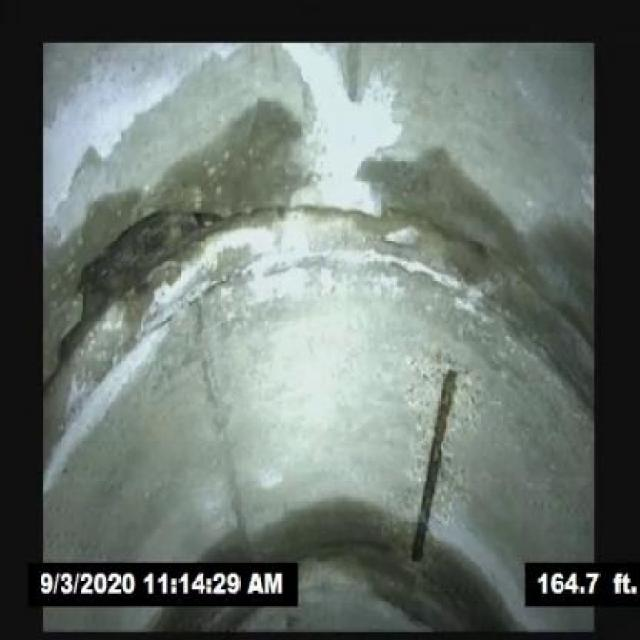Hole: (52, 172, 223, 362)
